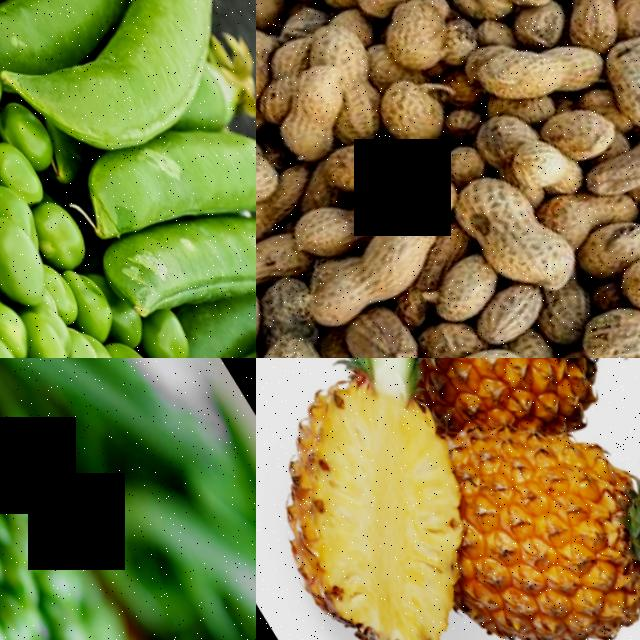peanuts: (440, 171, 580, 308), (275, 219, 422, 333), (328, 120, 456, 240), (463, 15, 590, 116), (361, 63, 455, 151), (360, 0, 460, 77), (529, 85, 622, 166), (567, 114, 640, 206), (318, 294, 422, 358), (582, 20, 640, 134), (565, 274, 640, 358), (593, 228, 640, 315), (386, 331, 533, 358), (256, 128, 284, 220), (256, 33, 281, 128)
peas: (0, 0, 171, 358), (0, 358, 160, 640)
pineapple: (437, 402, 640, 640), (256, 358, 496, 554), (410, 358, 640, 436)
